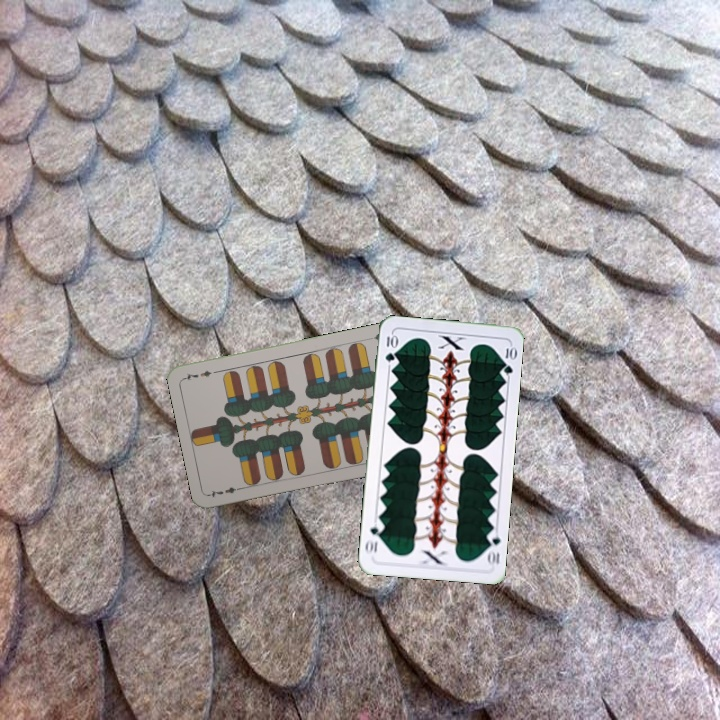E7: (206, 483, 246, 500)
G10: (483, 527, 503, 568), (381, 330, 398, 365)
